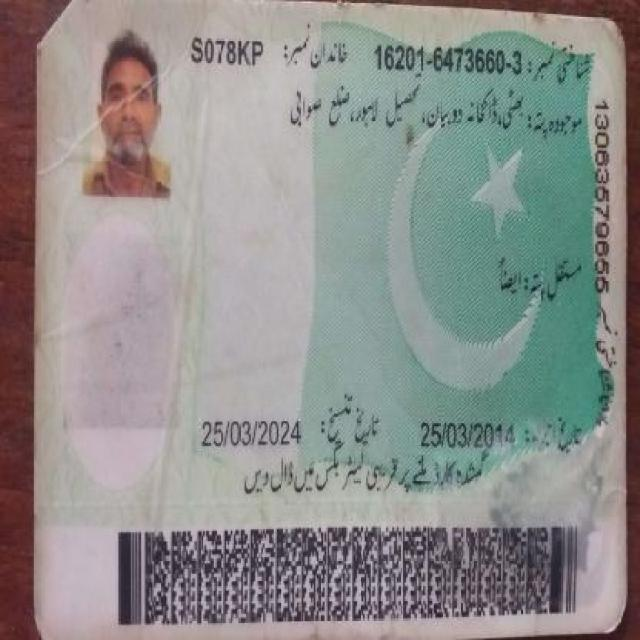Back: (25, 9, 624, 631)
